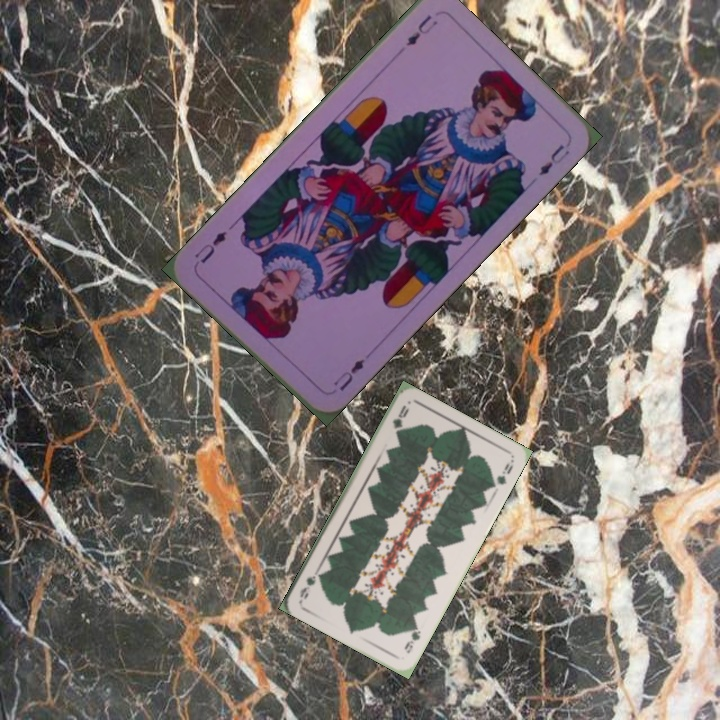EU: (329, 354, 367, 394), (402, 10, 440, 49)
G9: (388, 401, 411, 439), (400, 619, 423, 656)
